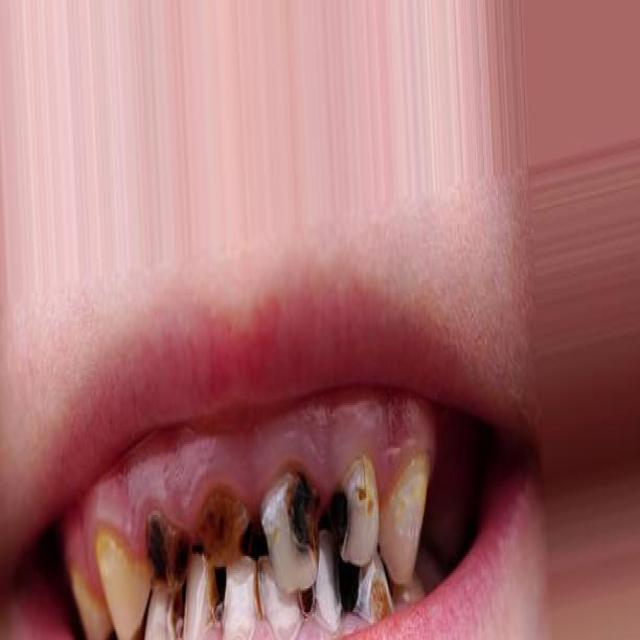caries: (262, 468, 316, 580), (194, 476, 250, 576), (328, 453, 379, 561), (140, 496, 190, 591), (354, 561, 396, 638), (158, 577, 193, 640), (296, 572, 326, 628)
